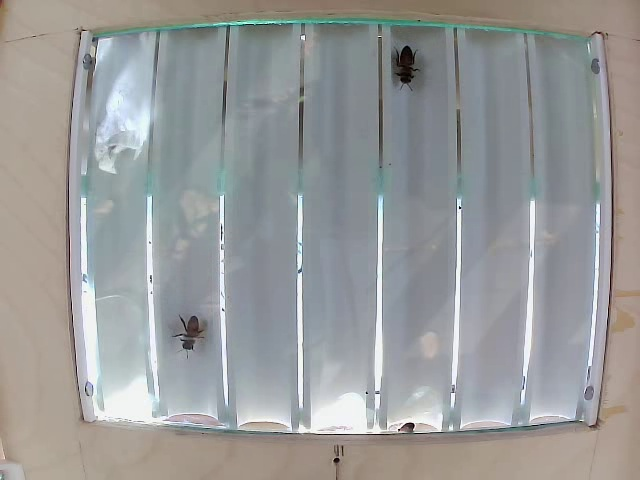bee: (174, 308, 214, 362), (393, 43, 427, 87)
